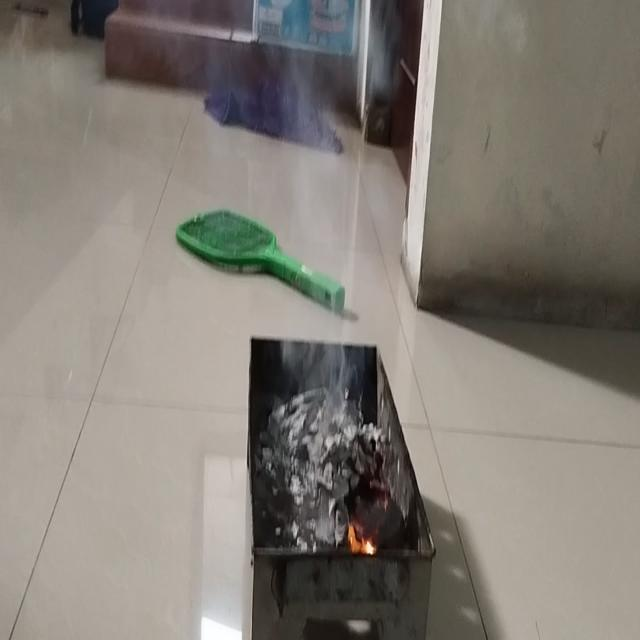fire: (279, 130, 364, 424), (253, 0, 394, 131)
smoke: (344, 520, 379, 558)
